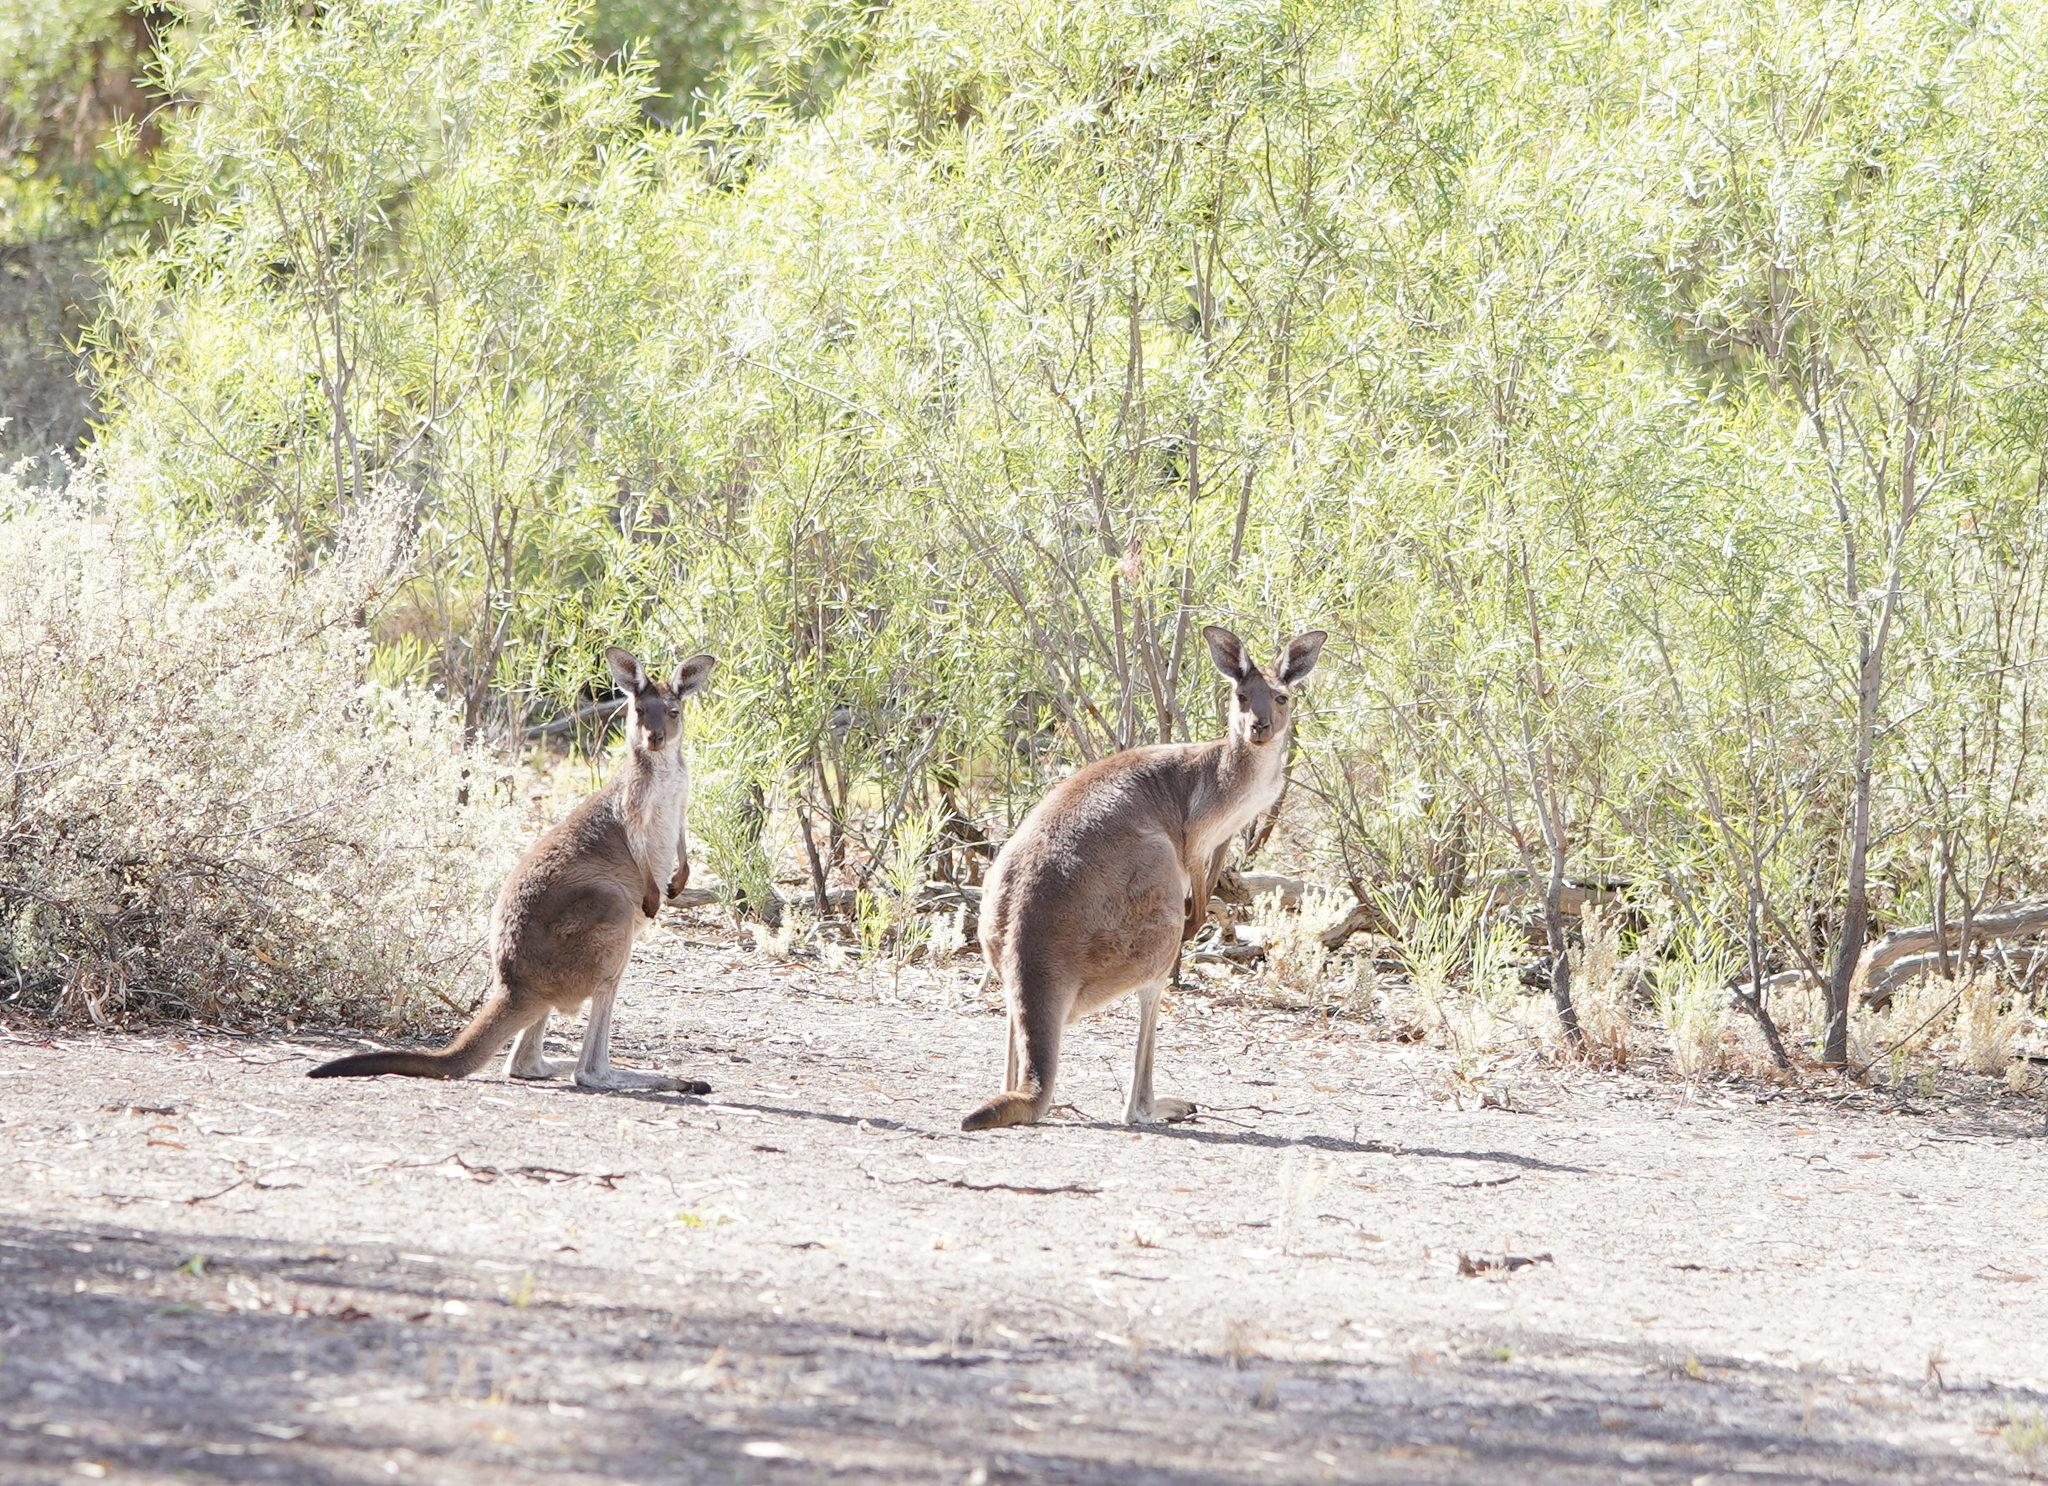Western grey kangaroo: (943, 628, 1325, 1141), (296, 653, 720, 1100)
